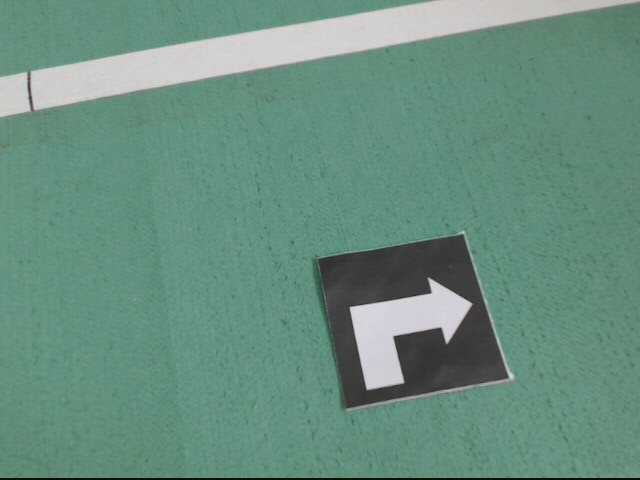right: (316, 232, 513, 413)
